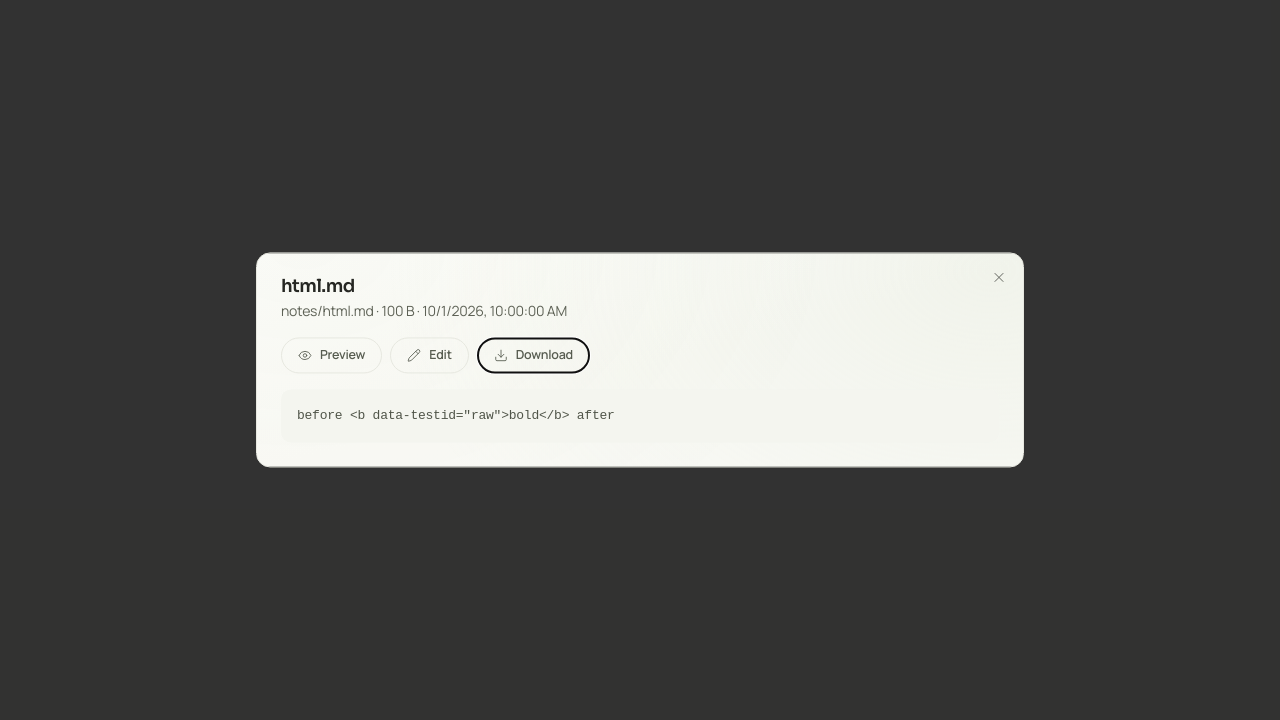
Scenario: StorageFileDialog › does not render raw HTML in markdown
The width and height of the screenshot is (1280, 720).
Check: the text "before <b data-testid=\"raw\">bold</b> after" is shown, box top-left (281, 389), bottom-right (999, 442)
Click the button "Preview" at (332, 355), box top-left (281, 337), bottom-right (382, 373)
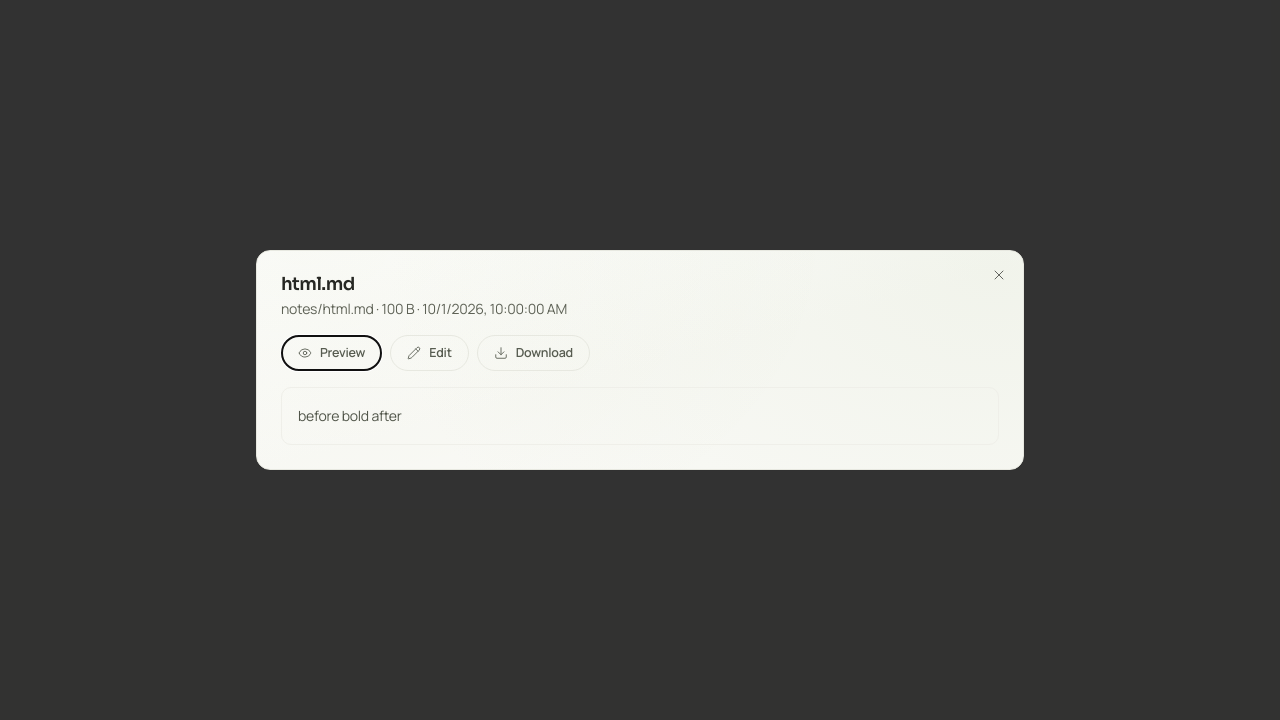
Check: the element with test id "markdown-preview" is shown, box top-left (298, 406), bottom-right (402, 425)
